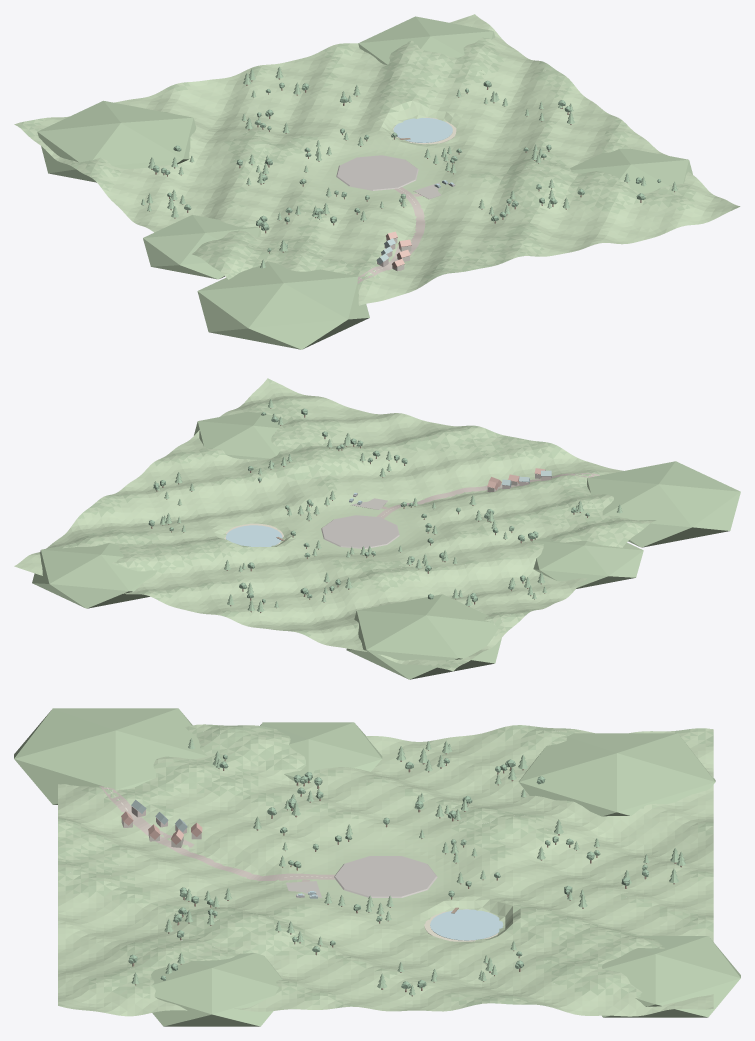
Rendered from terrain.glb.
3 views of the same model, one above another, from view 1: azimuth 30°, elevation 25°; view 2: azimuth 150°, elevation 25°; view 3: azimuth 270°, elevation 25° (orthographic). The views are drawn at different scales.
Visible parts, largest first — view 1: Terrain_Ground, Terrain_Hill_-150_-140, Terrain_Hill_-120_120, Terrain_Hill_-150_-40, Terrain_Hill_120_140, Terrain_Hill_135_-90, Terrain_Skirt, Terrain_Lake, Terrain_Road; view 2: Terrain_Ground, Terrain_Hill_-120_120, Terrain_Hill_-150_-140, Terrain_Hill_120_140, Terrain_Hill_-150_-40, Terrain_Hill_135_-90, Terrain_Skirt, Terrain_Lake, Terrain_Road; view 3: Terrain_Ground, Terrain_Hill_-150_-140, Terrain_Hill_-120_120, Terrain_Hill_135_-90, Terrain_Hill_120_140, Terrain_Hill_-150_-40, Terrain_Skirt, Terrain_Lake, Terrain_Road.
Boxes of the visible parts, left/top/right/bottom form: Terrain_Ground: left=14, top=14, right=740, bottom=305; Terrain_Hill_-150_-140: left=197, top=261, right=369, bottom=349; Terrain_Hill_-120_120: left=37, top=100, right=196, bottom=182; Terrain_Hill_-150_-40: left=143, top=215, right=261, bottom=279; Terrain_Hill_120_140: left=358, top=16, right=495, bottom=64; Terrain_Hill_135_-90: left=570, top=148, right=692, bottom=193; Terrain_Skirt: left=336, top=155, right=418, bottom=190; Terrain_Lake: left=393, top=117, right=452, bottom=142; Terrain_Road: left=357, top=187, right=425, bottom=283; Terrain_Ground: left=14, top=378, right=656, bottom=671; Terrain_Hill_-120_120: left=346, top=594, right=501, bottom=679; Terrain_Hill_-150_-140: left=587, top=461, right=740, bottom=547; Terrain_Hill_120_140: left=32, top=543, right=157, bottom=608; Terrain_Hill_-150_-40: left=531, top=536, right=643, bottom=588; Terrain_Hill_135_-90: left=194, top=411, right=288, bottom=459; Terrain_Skirt: left=321, top=515, right=399, bottom=548; Terrain_Lake: left=226, top=525, right=282, bottom=546; Terrain_Road: left=376, top=473, right=599, bottom=518; Terrain_Ground: left=58, top=724, right=713, bottom=1016; Terrain_Hill_-150_-140: left=14, top=708, right=207, bottom=804; Terrain_Hill_-120_120: left=519, top=733, right=715, bottom=816; Terrain_Hill_135_-90: left=151, top=953, right=282, bottom=1026; Terrain_Hill_120_140: left=602, top=936, right=740, bottom=1017; Terrain_Hill_-150_-40: left=260, top=722, right=382, bottom=782; Terrain_Skirt: left=334, top=856, right=437, bottom=897; Terrain_Lake: left=430, top=909, right=503, bottom=940; Terrain_Road: left=99, top=786, right=335, bottom=880.
Bounding box in the file's own units: 383 × 33.5 × 377.
